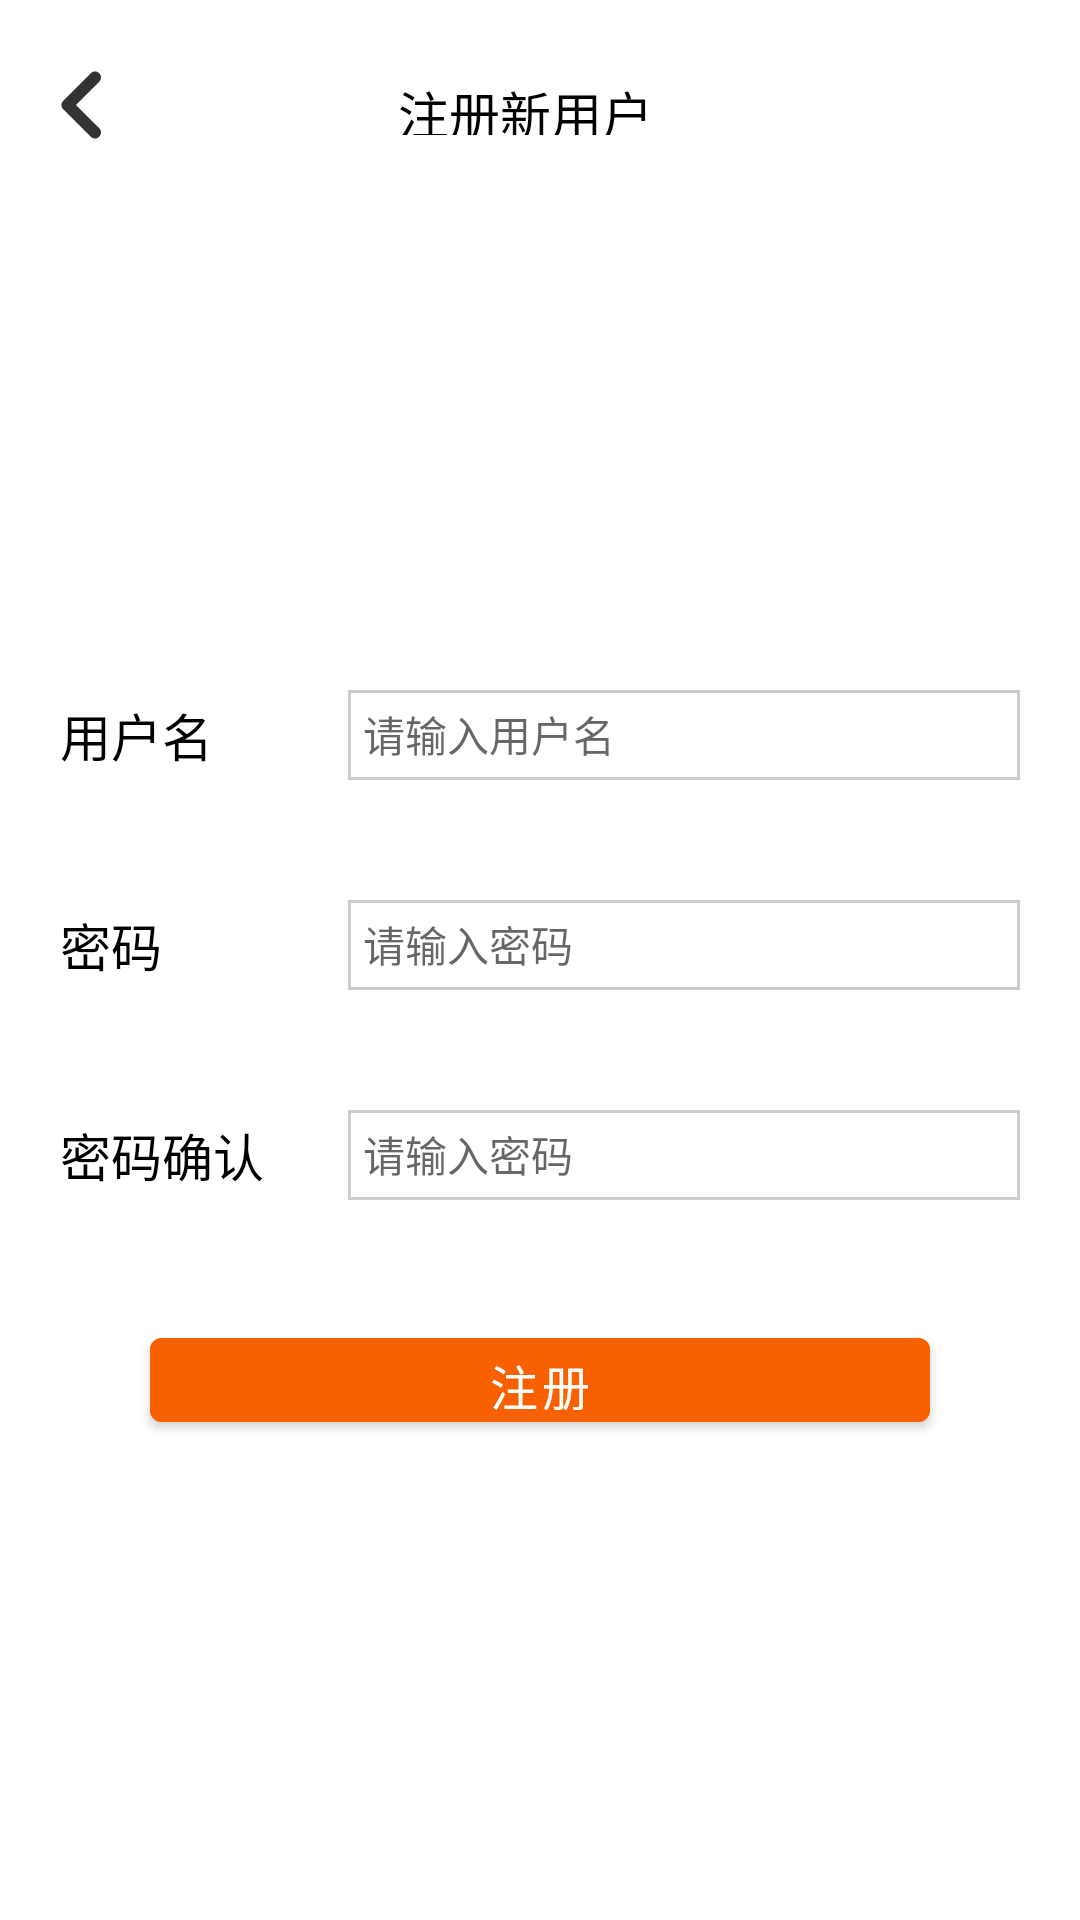

Screen size 1080x1920. Icon name, then its center in pixels as (x=x, y=y):
back: (x=81, y=105)
